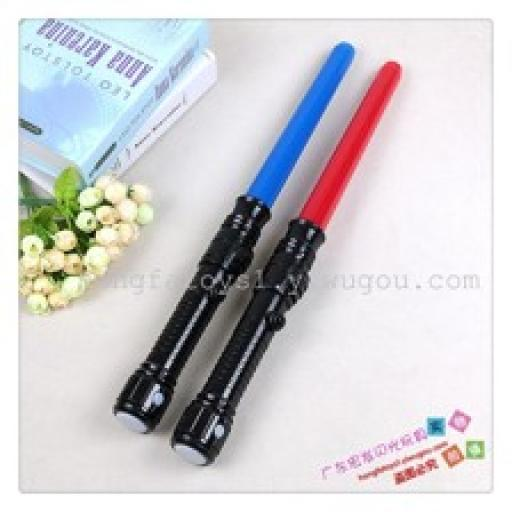lightsaber: (108, 41, 352, 434), (173, 60, 400, 466)
